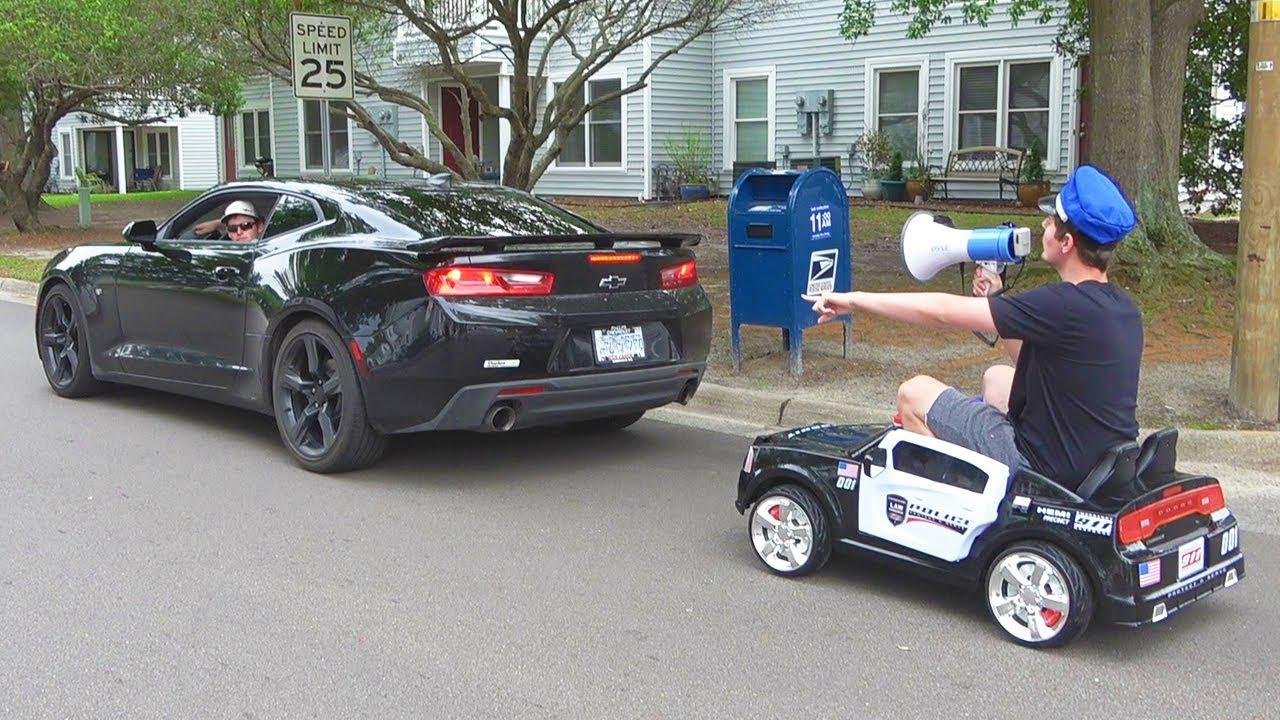car: (33, 175, 715, 503), (739, 426, 1255, 655)
